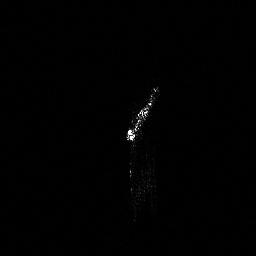ship: (122, 83, 164, 143)
